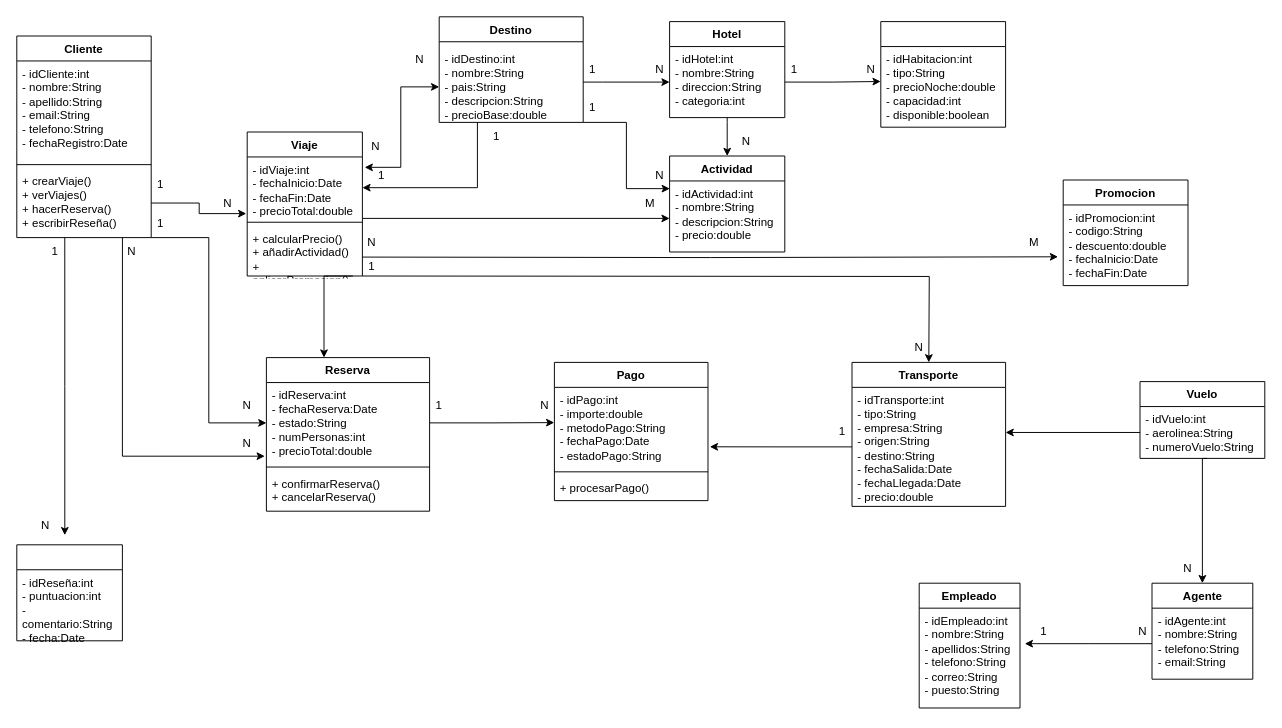
Image size: 1282x728. Some labels were removed from this diagram. The shapes that lost their labels are listed below. From the top down, each one's box as (x1, y1, x2, y2) in pixels, then its label:
(880, 21, 1006, 127): Habitación
(16, 544, 122, 641): Resseña
